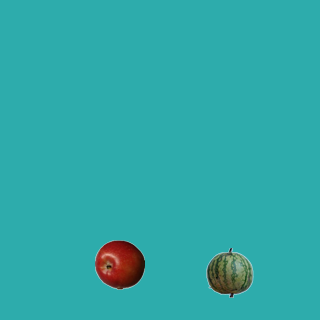Apple Braeburn: (94, 239, 144, 289)
Watermelon: (204, 247, 254, 297)
